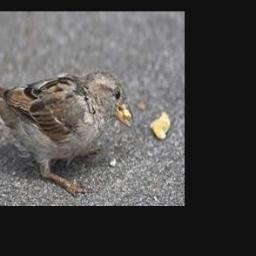Sparrow: (0, 71, 135, 196)
